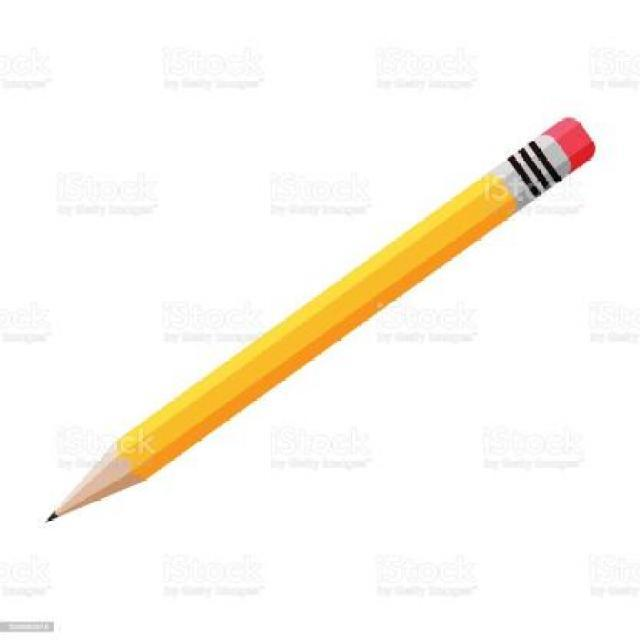Pencil: (46, 436, 170, 528)
